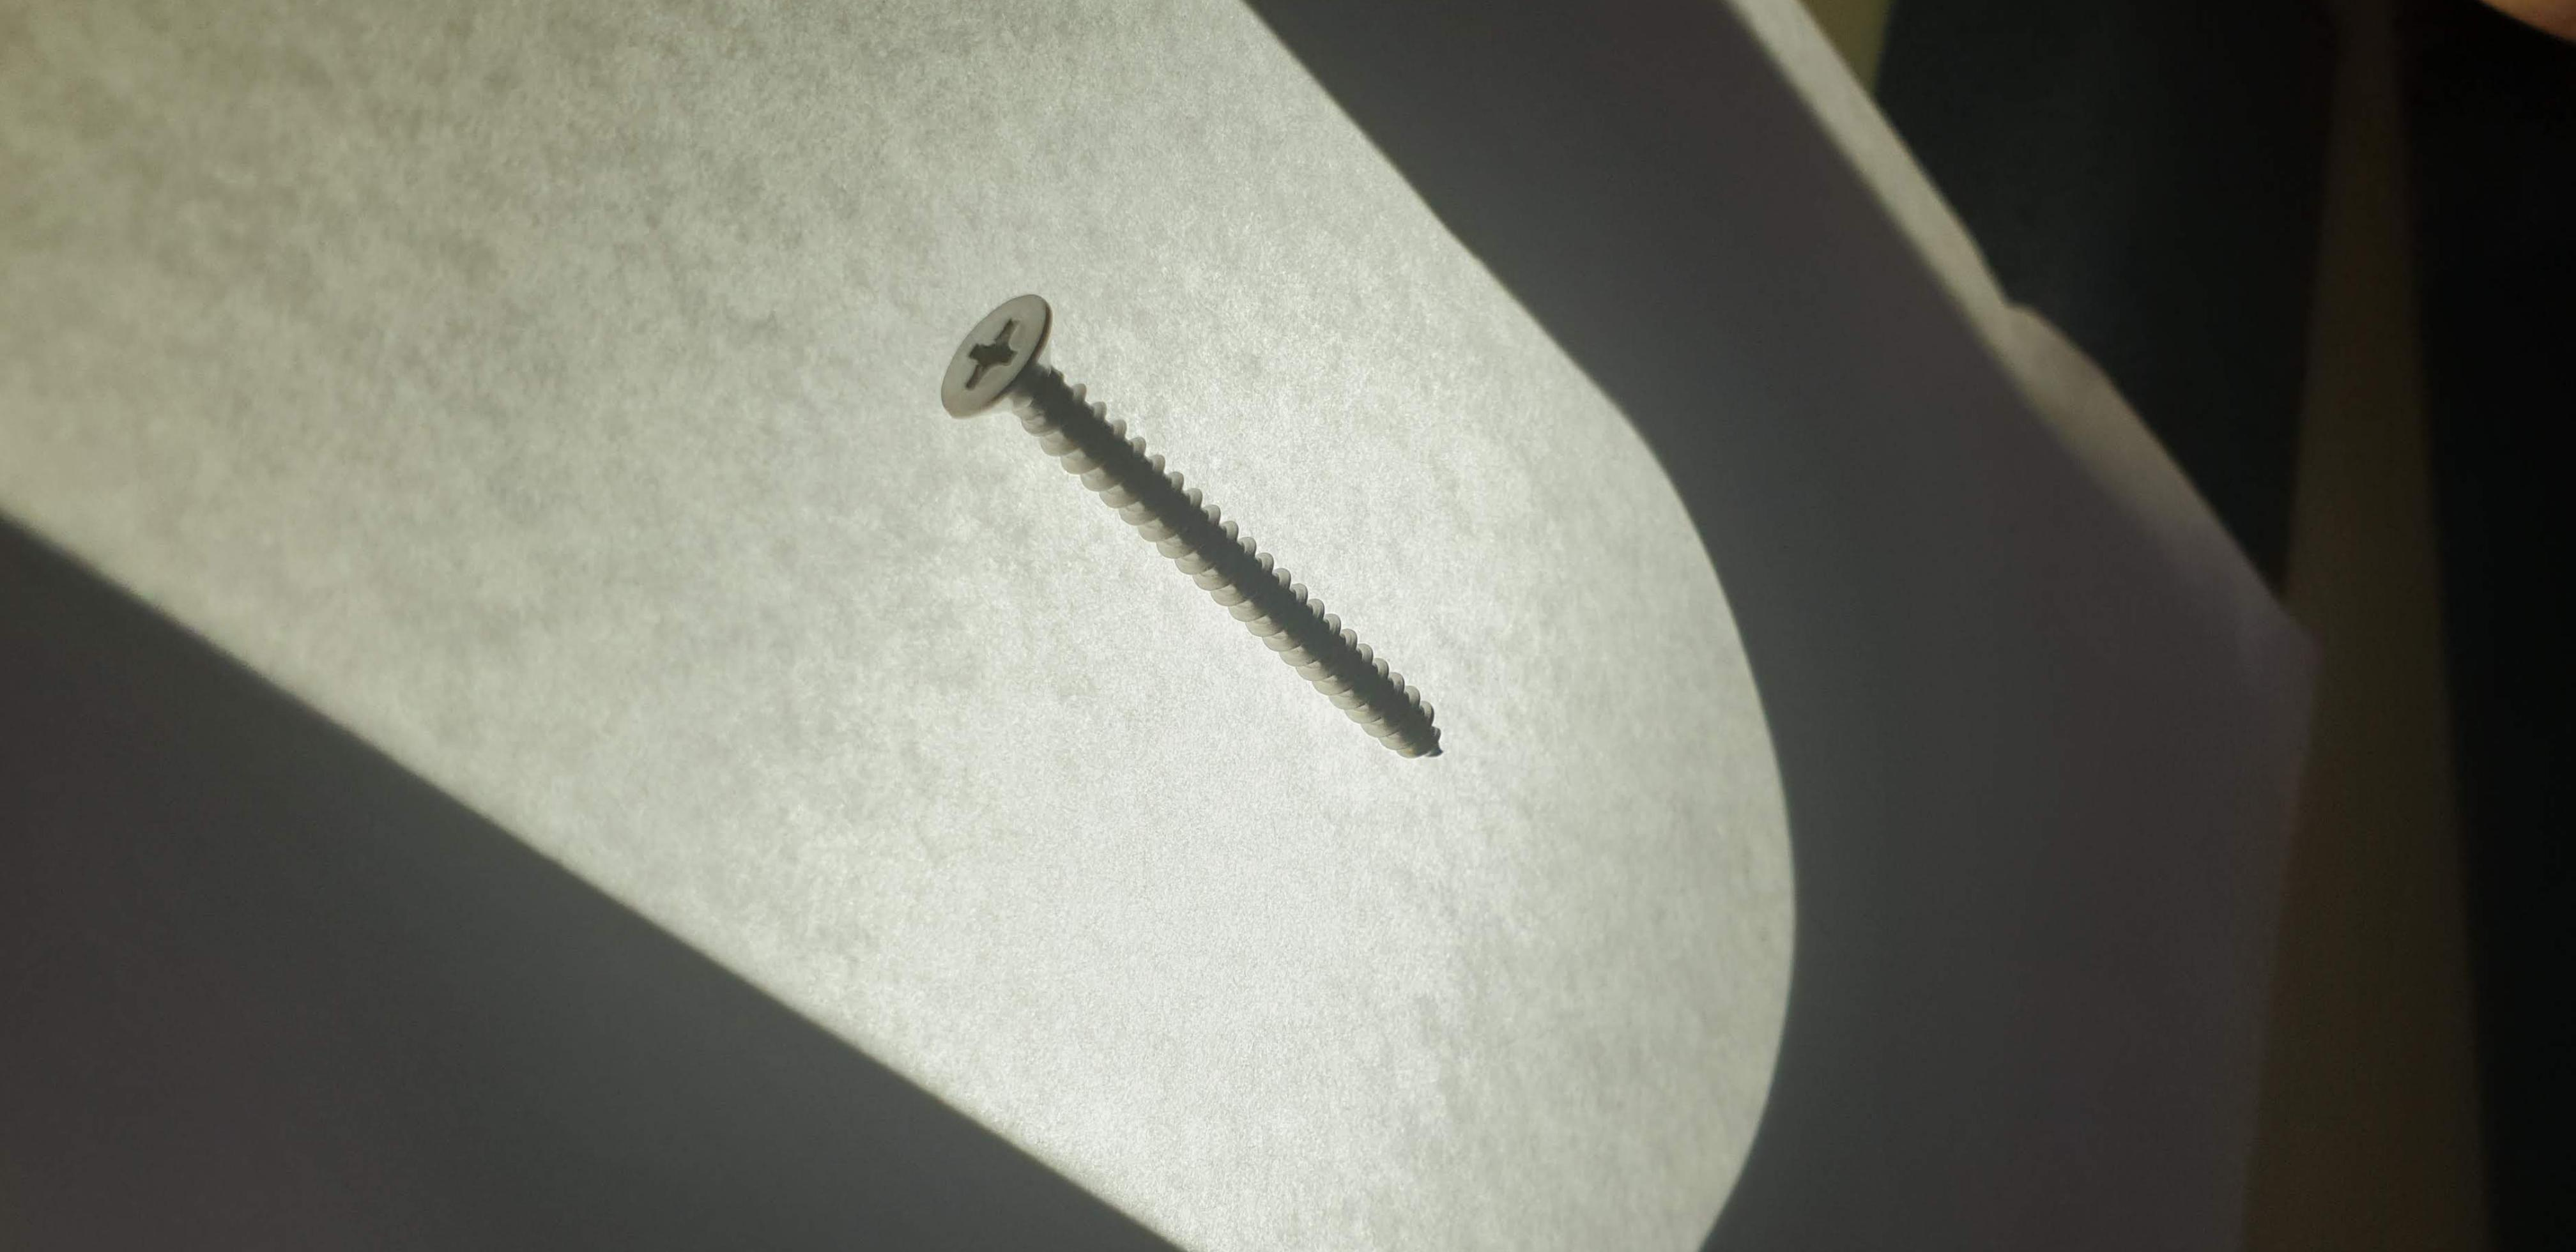S001: (917, 217, 1503, 868)
